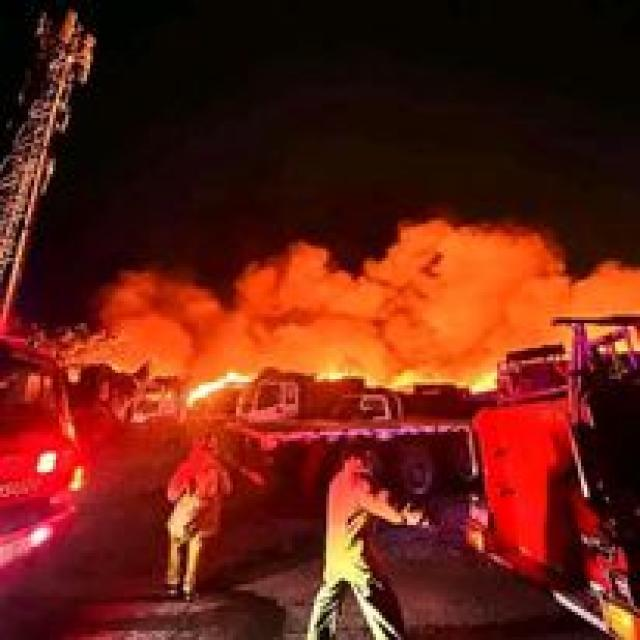Fire: (197, 297, 512, 389), (190, 361, 254, 408)
Smoke: (102, 222, 640, 324)
